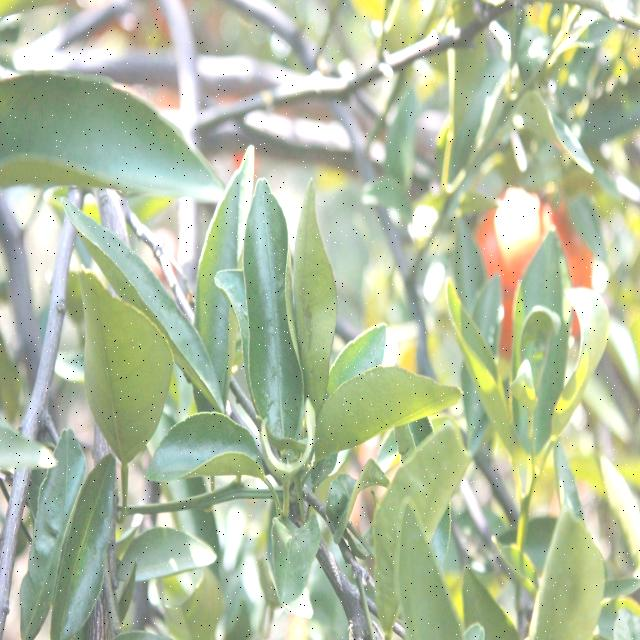healthy: (0, 85, 216, 199), (80, 270, 172, 448), (244, 178, 305, 433), (41, 455, 122, 640), (316, 364, 462, 453), (528, 510, 611, 640), (144, 410, 262, 494), (394, 499, 453, 640)
